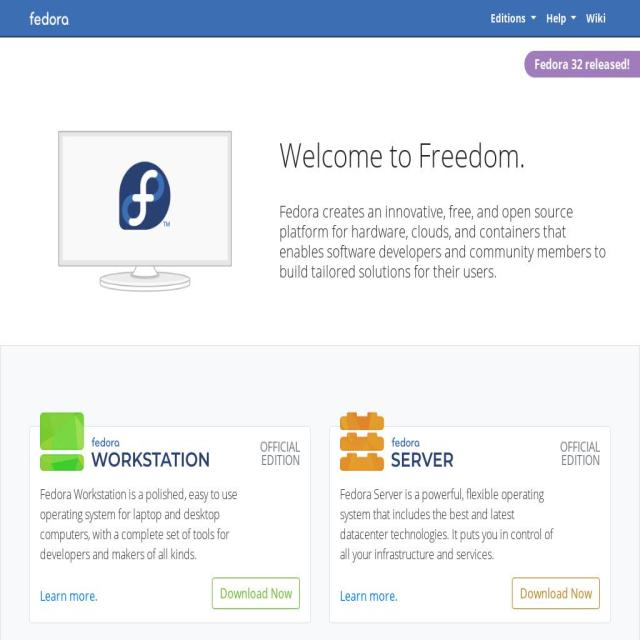button: (212, 578, 300, 610), (512, 578, 600, 610), (486, 2, 541, 34), (30, 0, 70, 36), (540, 2, 582, 34), (581, 2, 611, 34)
heading: (280, 200, 610, 282), (280, 134, 610, 175)
image: (58, 131, 232, 292), (40, 440, 209, 472), (340, 440, 453, 472), (30, 11, 70, 25)
link: (534, 55, 630, 73), (40, 586, 98, 606), (340, 586, 398, 606)
text: (31, 484, 263, 565), (331, 484, 563, 565), (260, 438, 300, 470), (560, 438, 600, 470)
